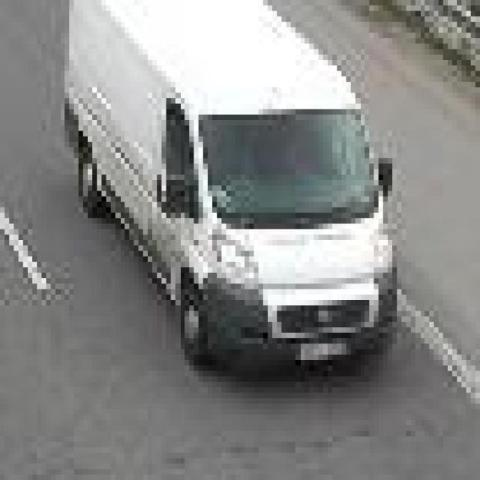van: (68, 0, 400, 371)
